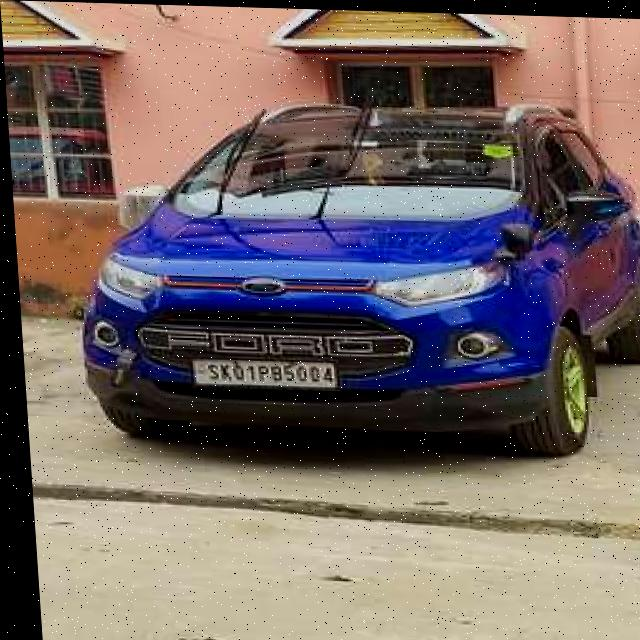plate: (180, 354, 337, 393)
